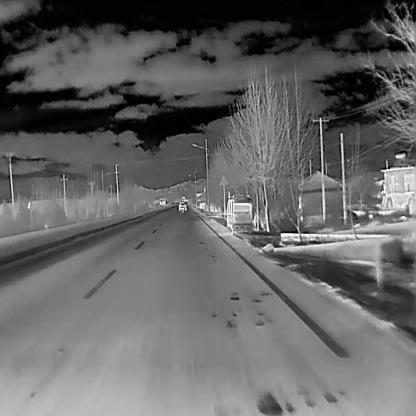car: (178, 201, 187, 211)
